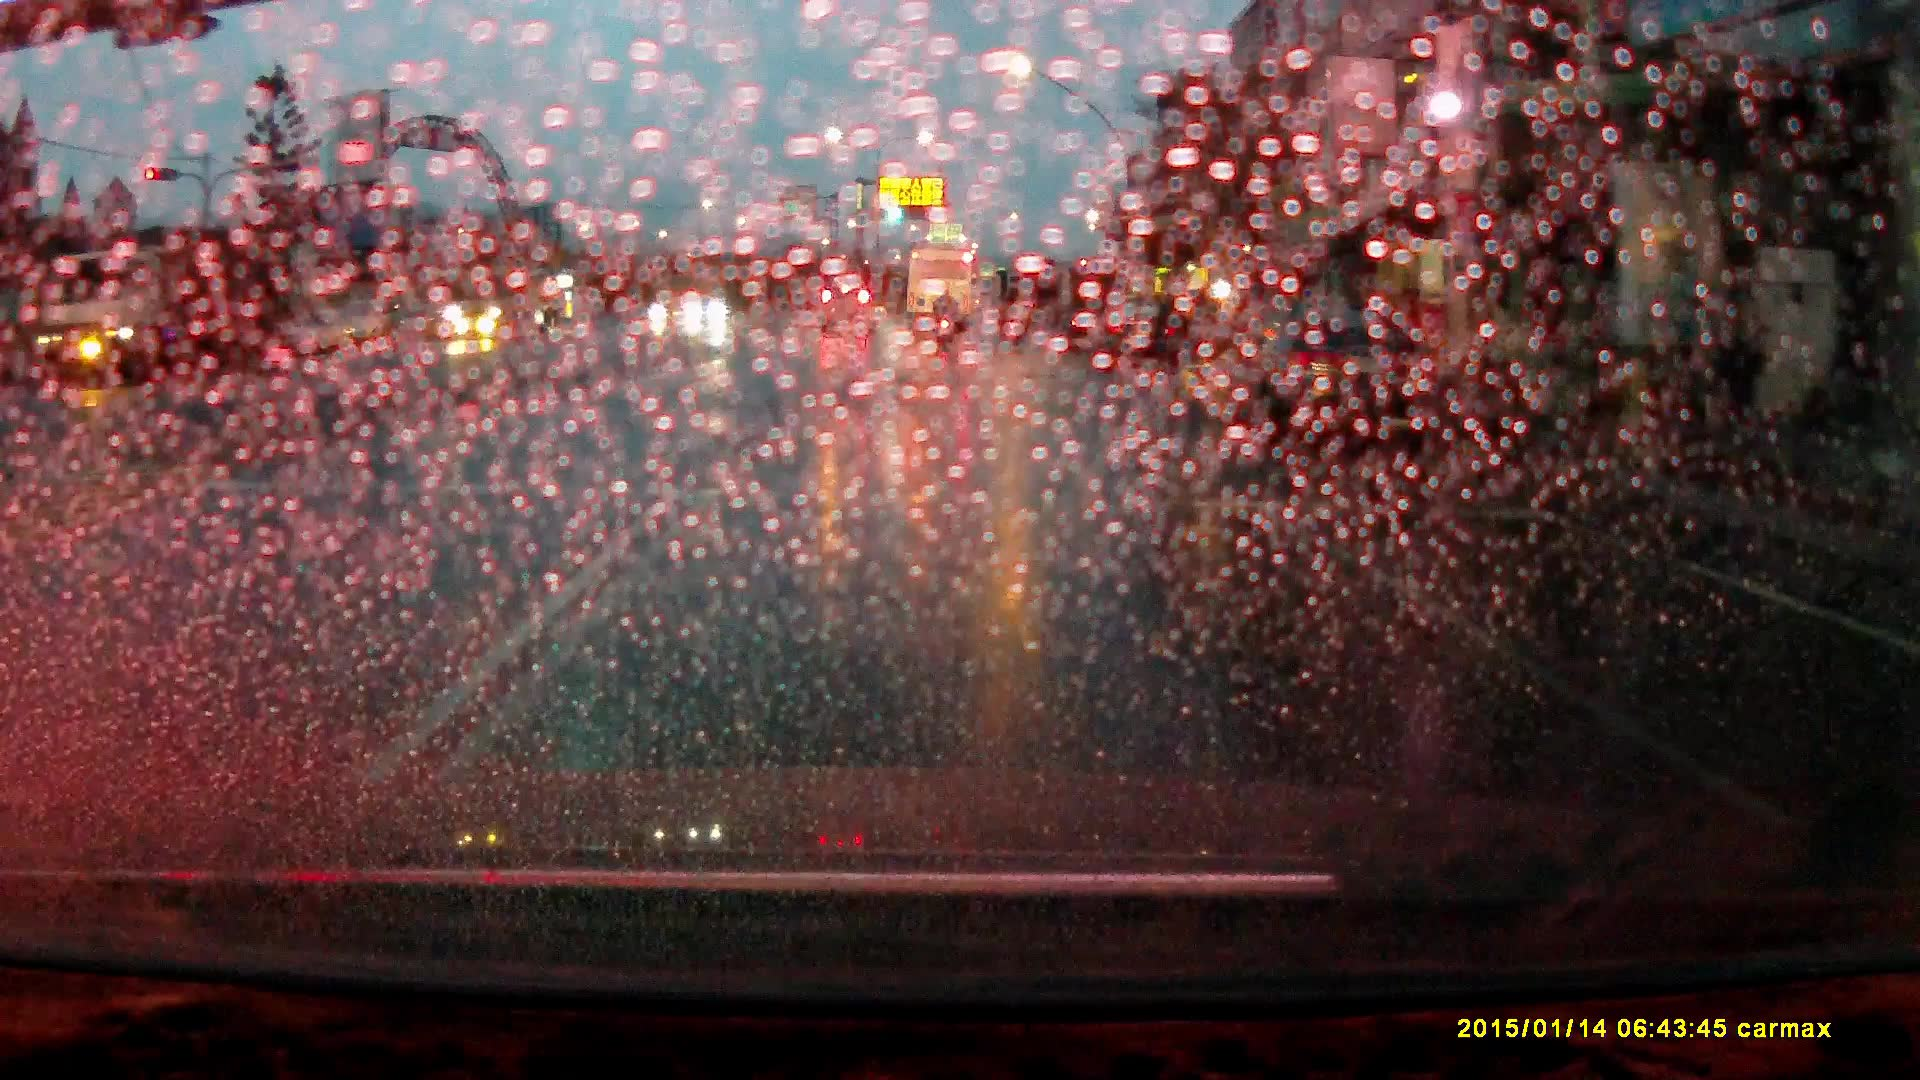rider: (933, 288, 960, 351)
vehicle: (29, 245, 253, 389), (1233, 313, 1440, 444), (446, 265, 561, 341), (908, 242, 977, 331), (1091, 306, 1180, 371), (819, 286, 880, 335), (682, 293, 730, 324)
